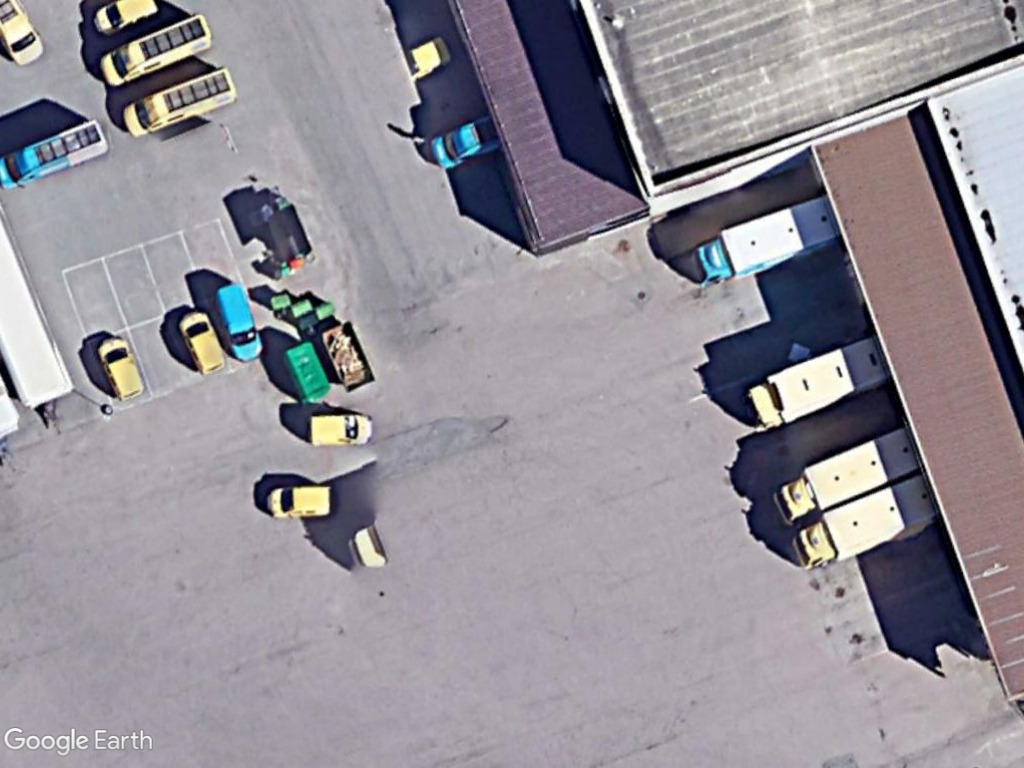truck: (767, 426, 918, 530), (682, 198, 844, 291), (789, 475, 942, 573), (739, 336, 887, 436)
van: (118, 63, 240, 143), (96, 11, 221, 89), (0, 115, 112, 192), (211, 277, 265, 365), (95, 333, 147, 405), (178, 305, 229, 375), (262, 480, 334, 522), (306, 410, 379, 447)
